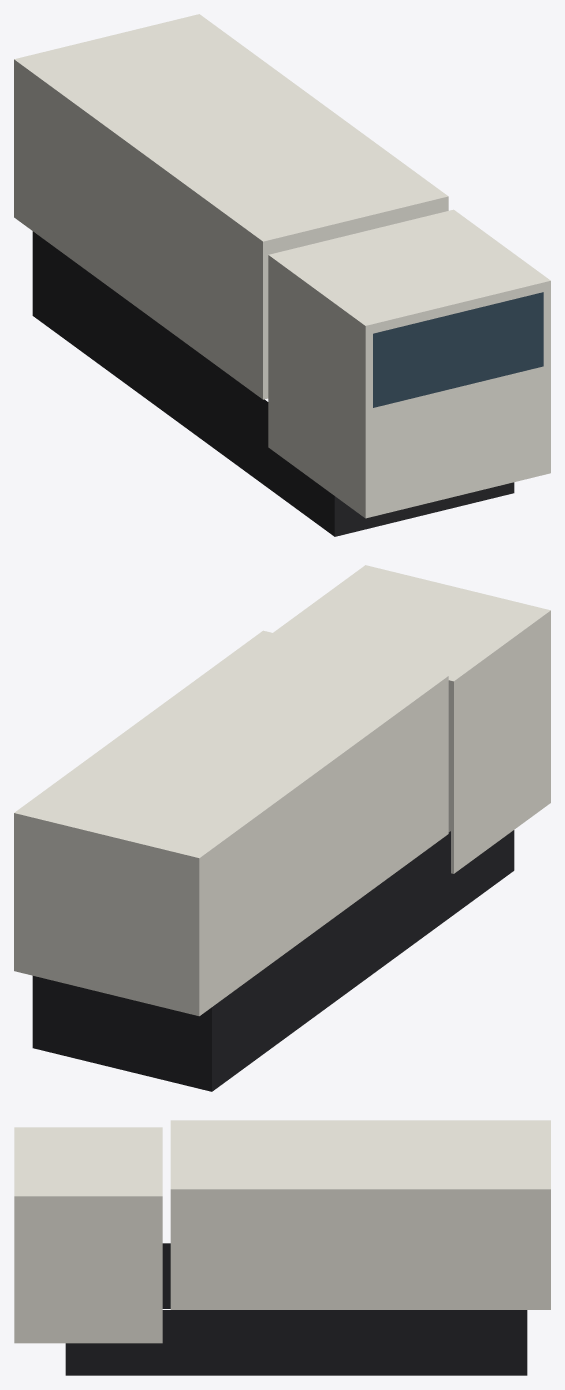
Rendered from 363_far.fbx.
3 renders of one model, top to bottom at view 1: azimuth 30°, elevation 25°; view 2: azimuth 150°, elevation 25°; view 3: azimuth 270°, elevation 25°, orthographic. The views are drawn at different scales.
Visible parts, largest first — view 1: 363_far; view 2: 363_far; view 3: 363_far.
Boxes of the visible parts, x1,y1,x2,y2 form: 363_far: [14, 14, 550, 536]; 363_far: [14, 565, 550, 1091]; 363_far: [14, 1120, 550, 1375].
Bounding box in the file's own units: 2.48 × 3.14 × 8.14.
